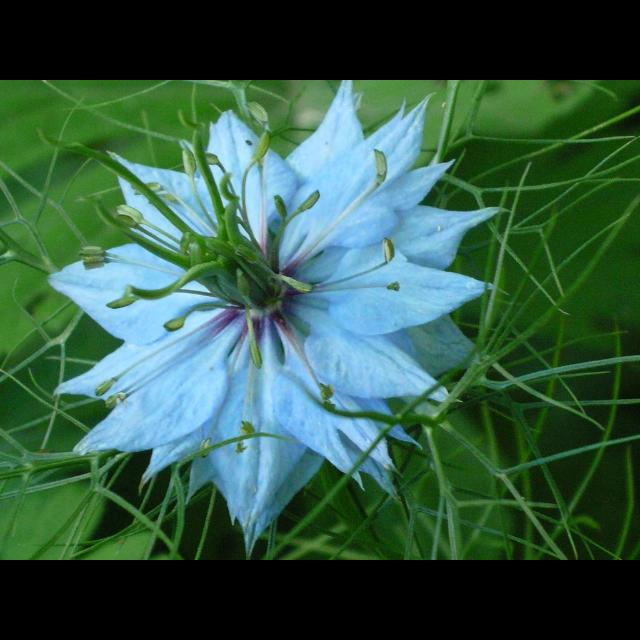Flower: (48, 80, 518, 560)
